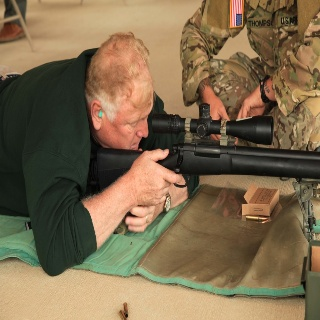rifle: (97, 102, 320, 191)
